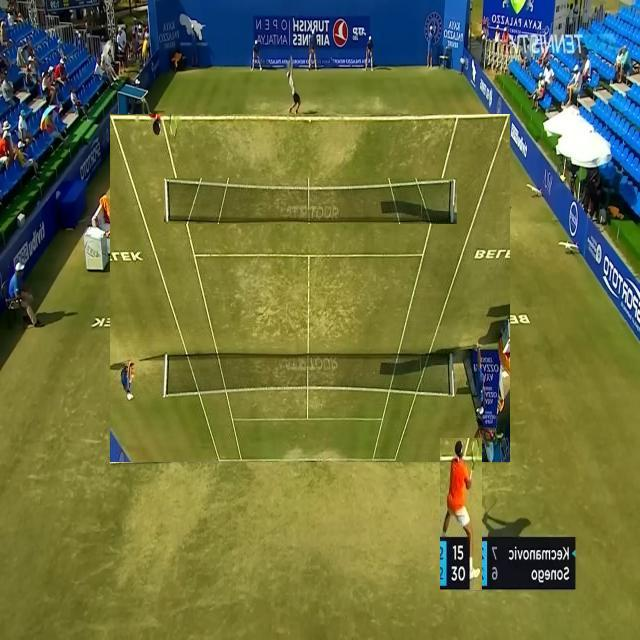court: (110, 114, 510, 462)
net: (164, 178, 457, 224)
player: (440, 438, 482, 590)
